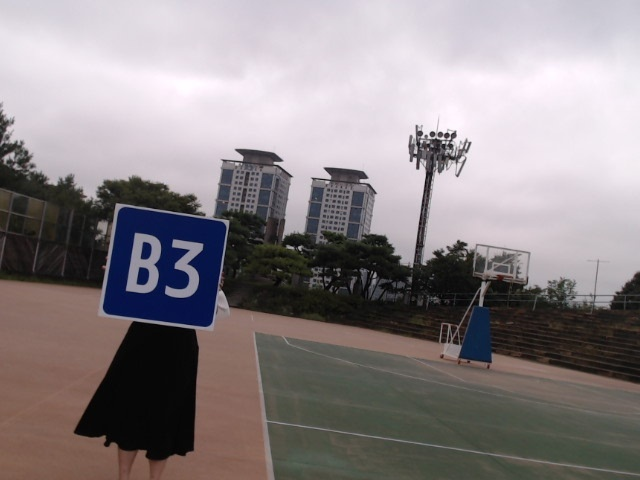delivery_b3: (103, 204, 227, 329)
